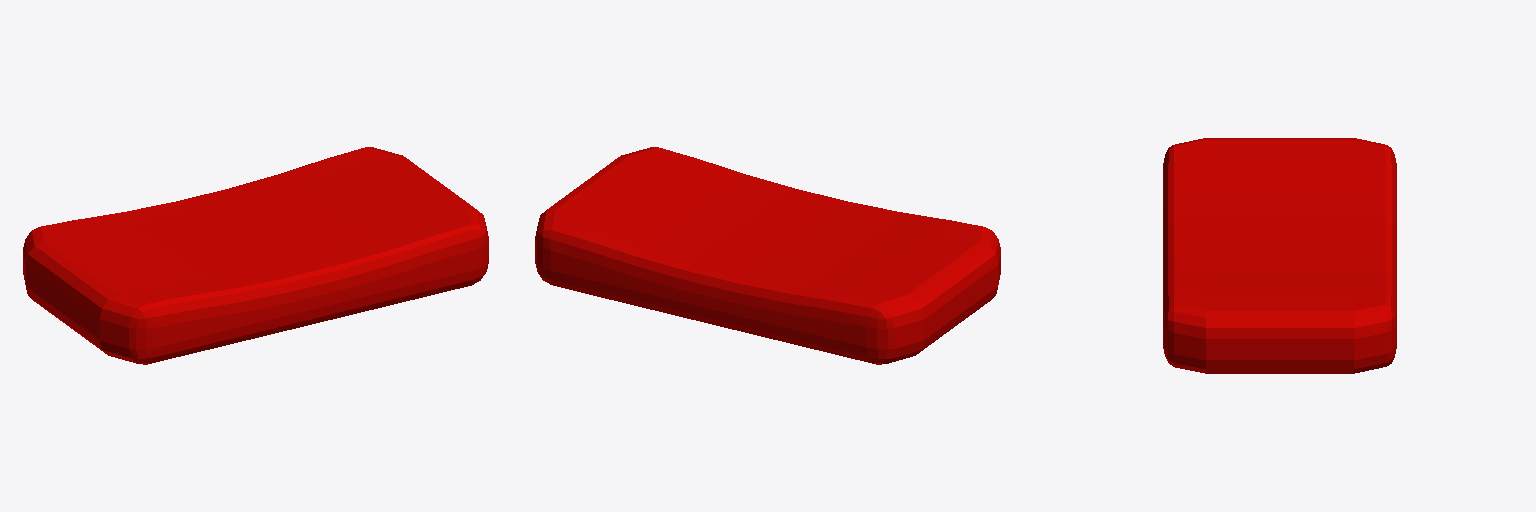
File: RedPillow.obj
The picture shows the model from 3 angles: view 1: azimuth 30°, elevation 25°; view 2: azimuth 150°, elevation 25°; view 3: azimuth 270°, elevation 25°; orthographic projection.
Parts seen in each view (by area): view 1: Red_Pillow_Plane.022; view 2: Red_Pillow_Plane.022; view 3: Red_Pillow_Plane.022.
Part boxes in pixels (x1,y1,x2,y2): Red_Pillow_Plane.022: (23,147,488,364); Red_Pillow_Plane.022: (535,147,1000,364); Red_Pillow_Plane.022: (1163,138,1396,373).
Bounding box in the file's own units: 0.3722 × 0.0561 × 0.1957.